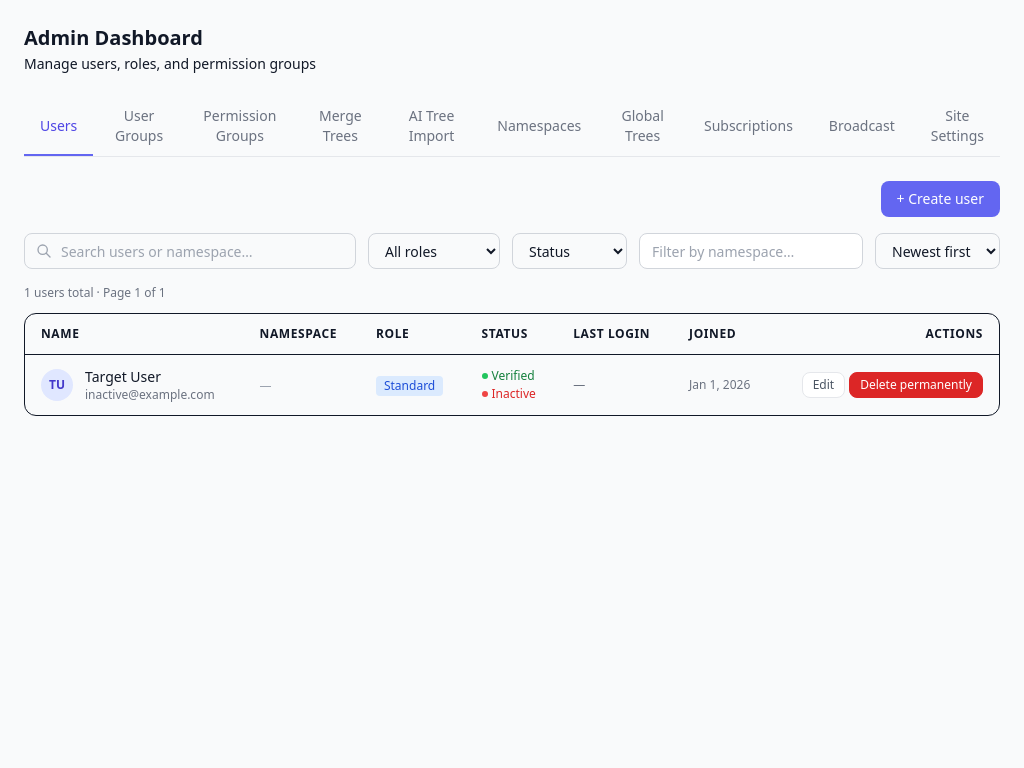
AdminPage — permanently delete user › sends DELETE /admin/users/{id}/purge with the bearer token and removes the user from the list on success
Click the button "Delete permanently" at [916, 385], box [849,372,983,398]
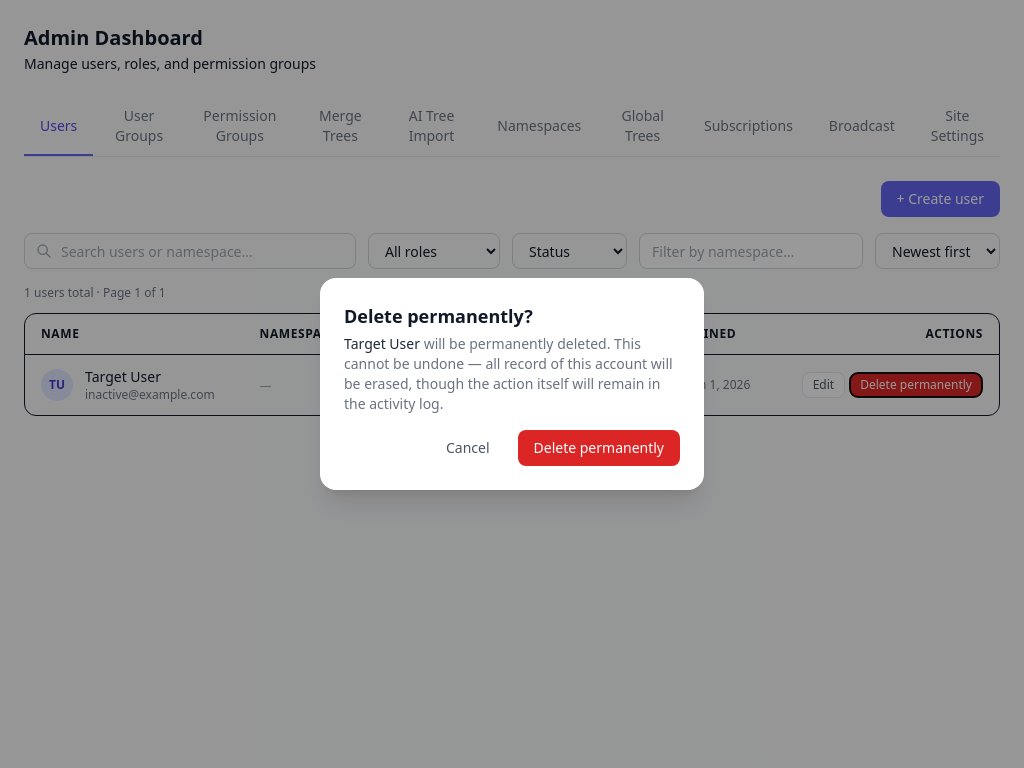
Expected: the heading "Delete permanently?" is shown, [344,304,533,328]
Click the button "Delete permanently" at [599, 448], box [518,430,680,466]
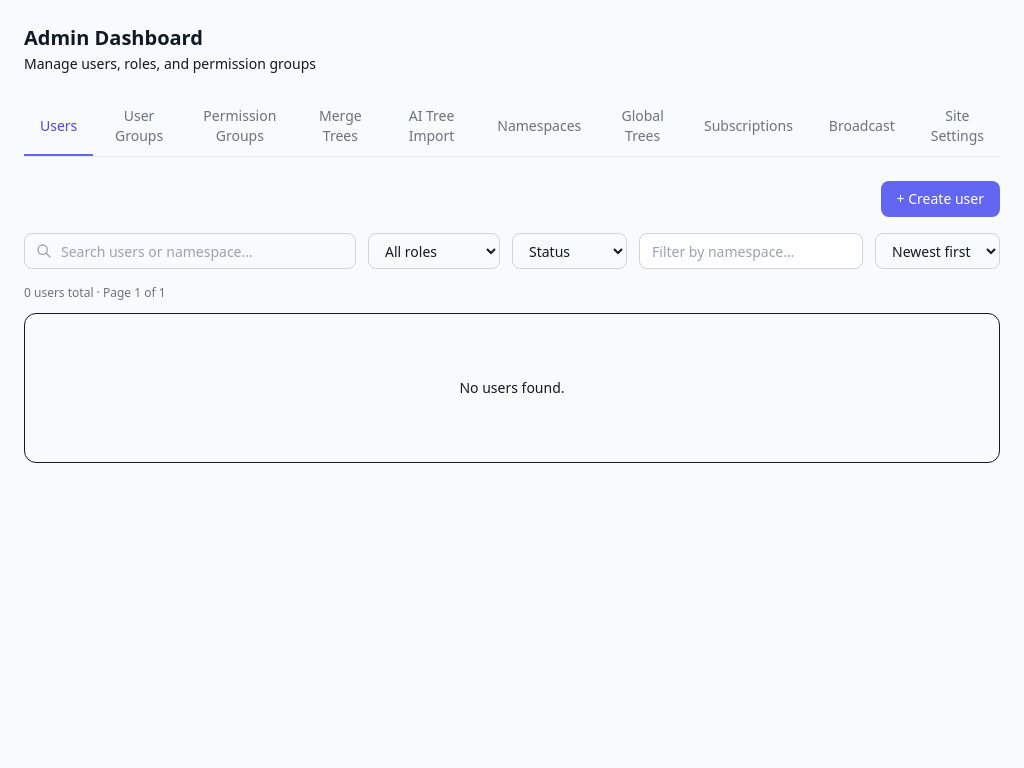
Expected: the text "inactive@example.com" is gone
Expected: the text "0 users total · Page 1 of 1" is shown, [24,284,166,301]
